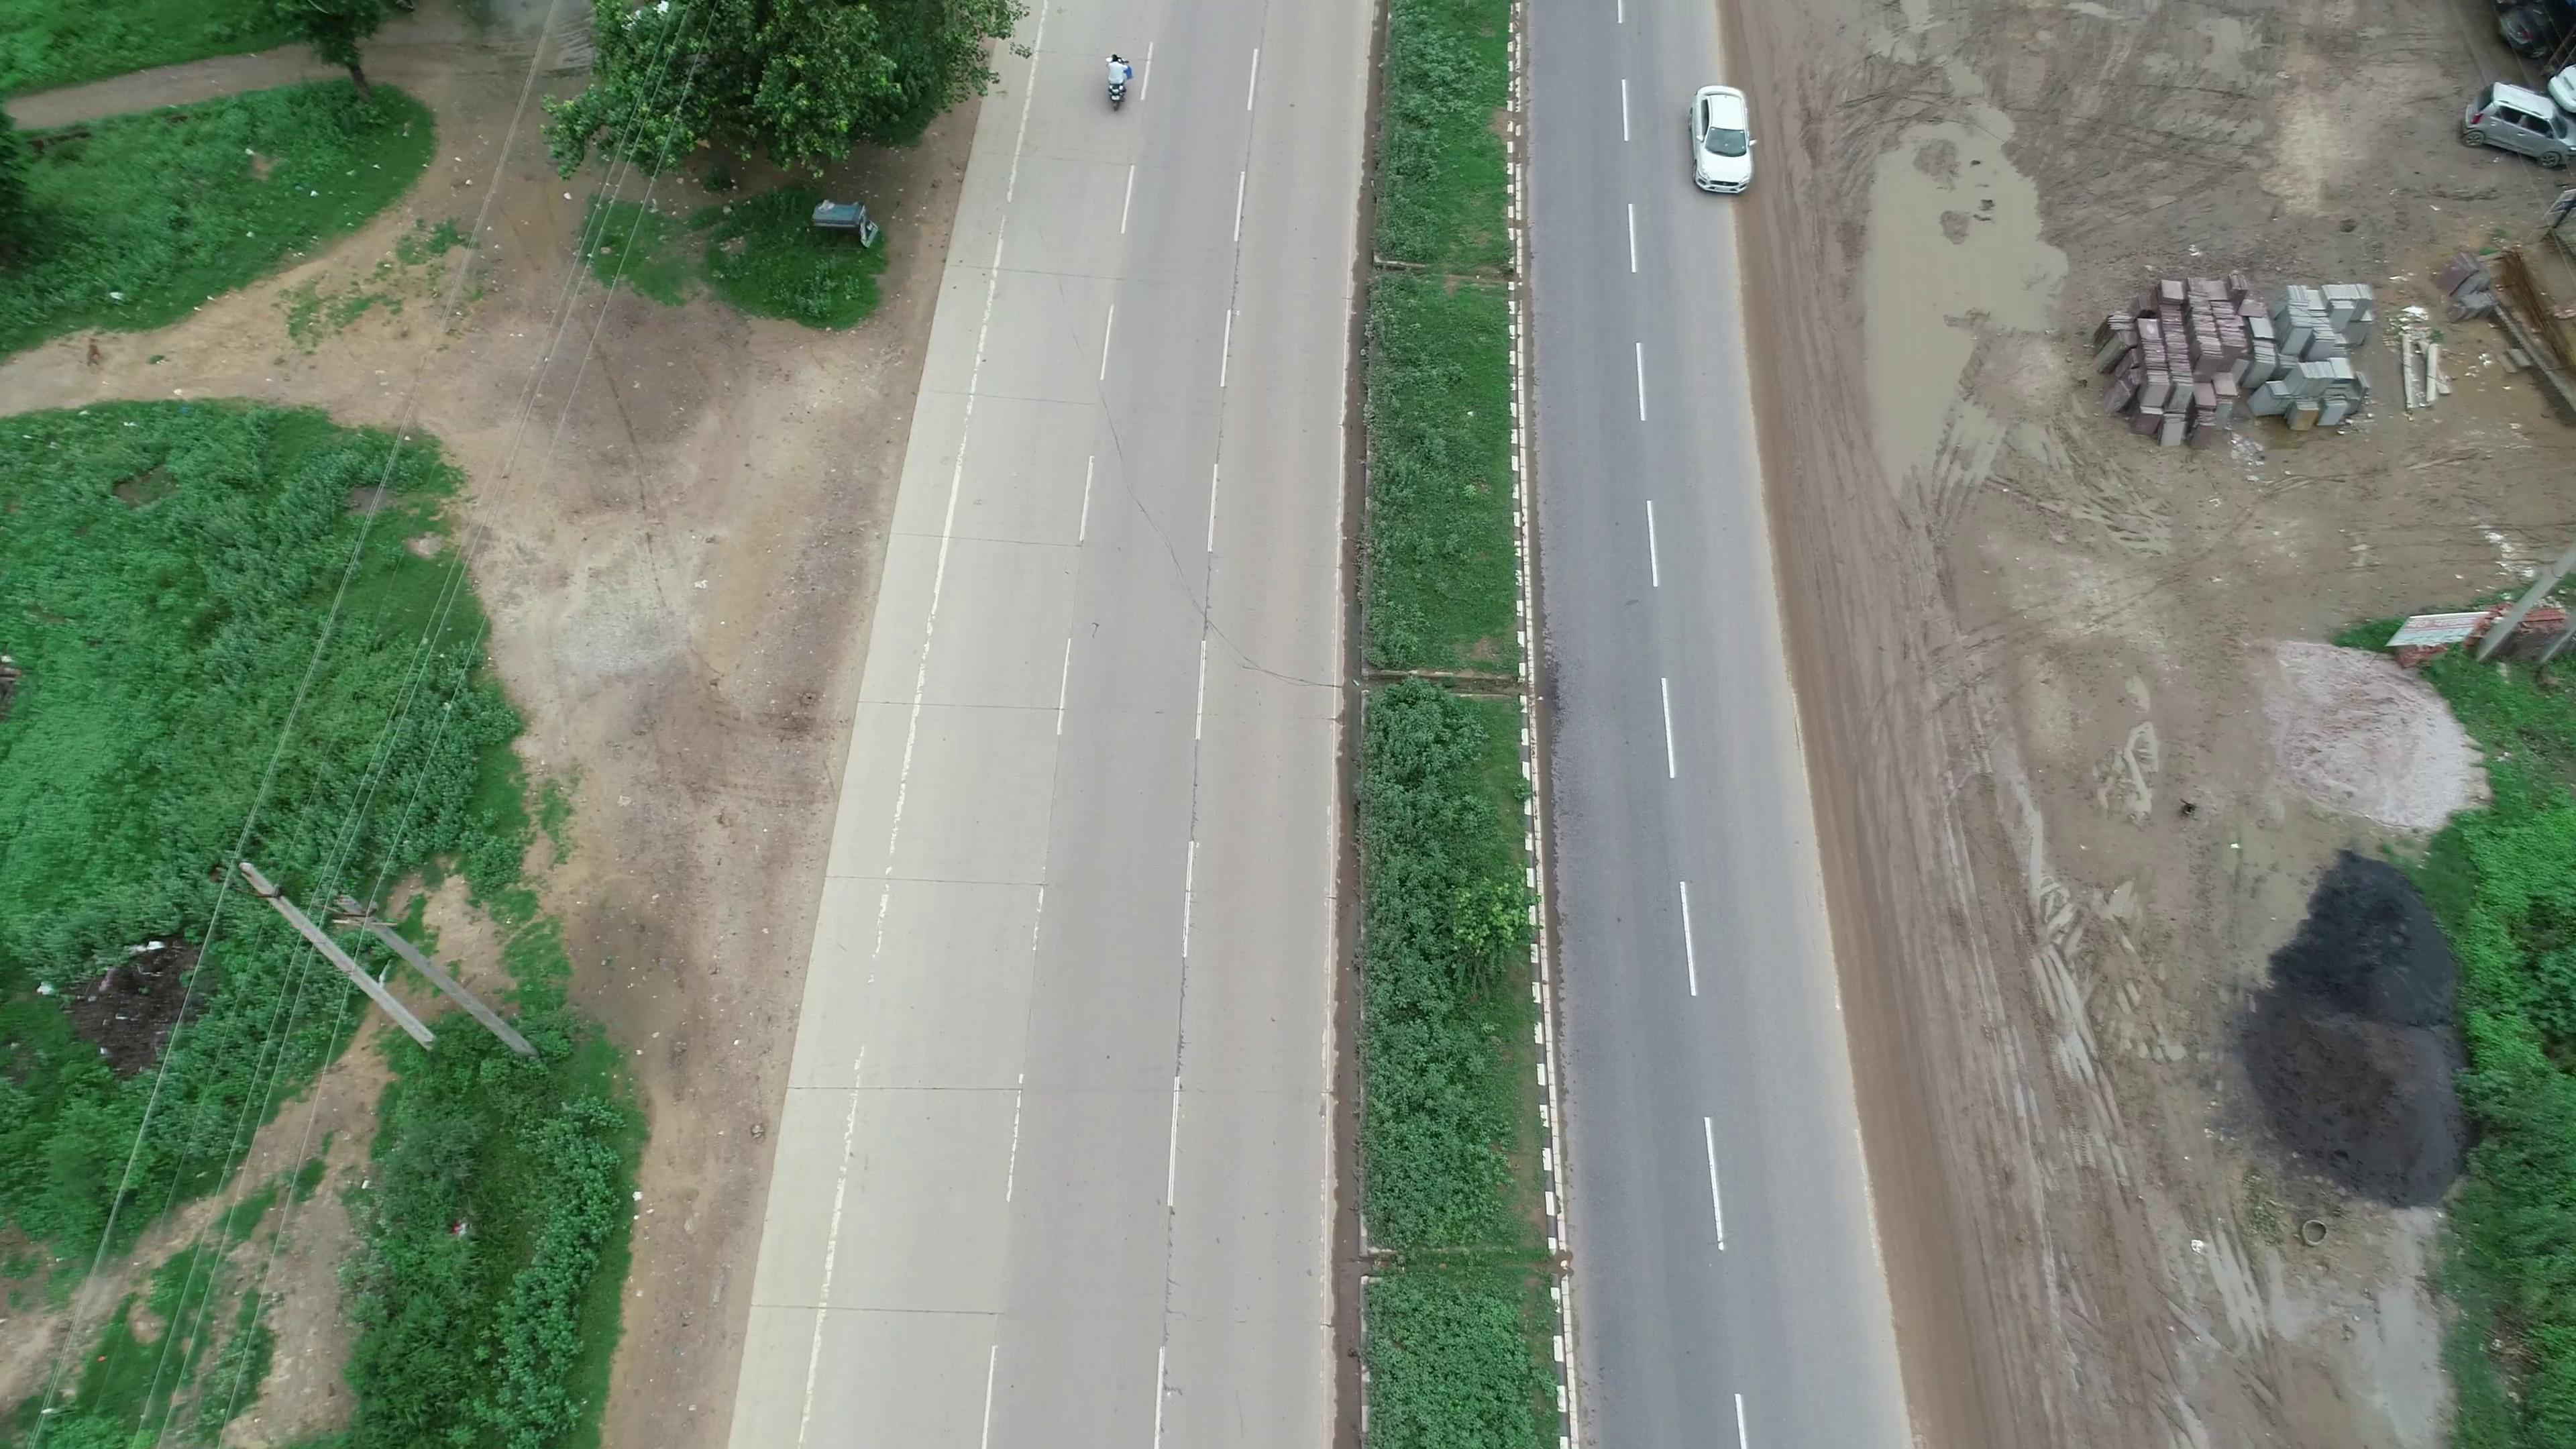Muddy_road: (1790, 800, 2020, 1364), (1723, 331, 1913, 777)
